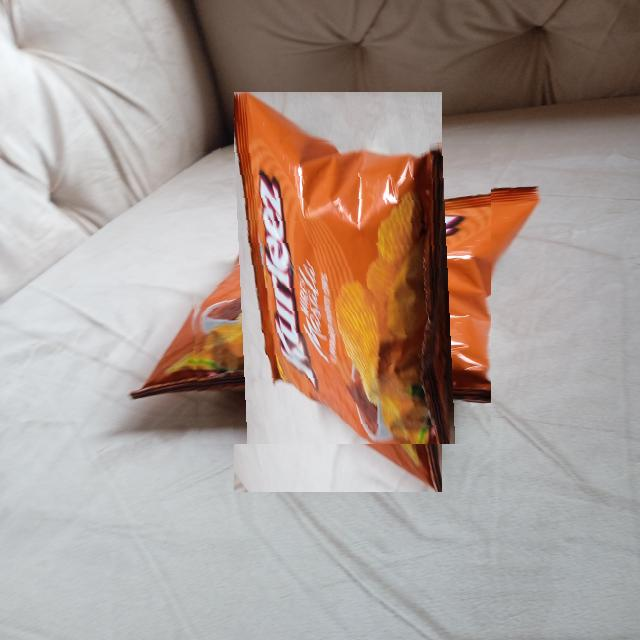Plastic: (186, 140, 491, 444)
